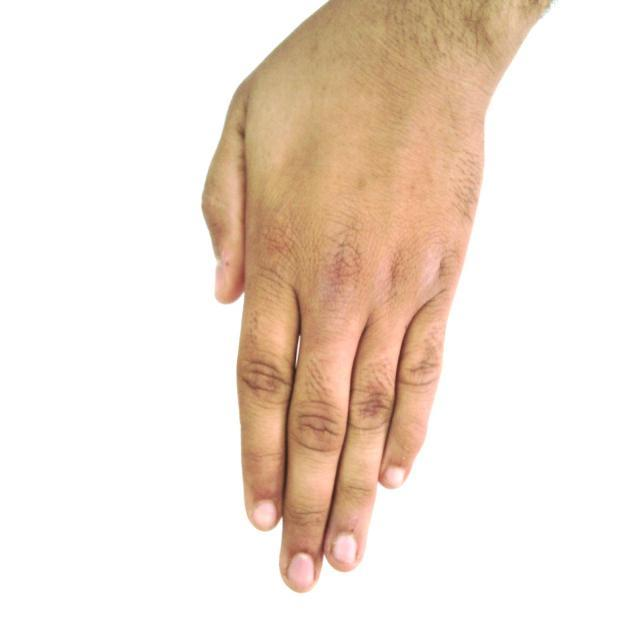Fingernail: (287, 551, 317, 587), (332, 535, 357, 563), (254, 502, 276, 529), (384, 468, 404, 487)
